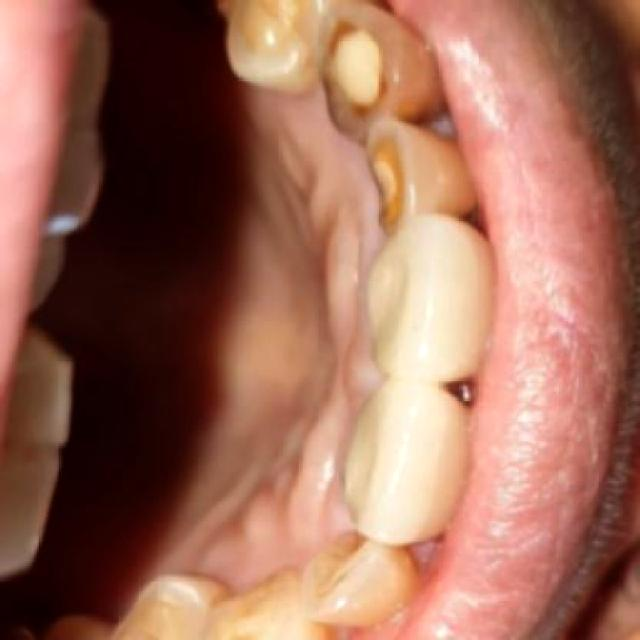Plaque: (313, 3, 439, 139)
